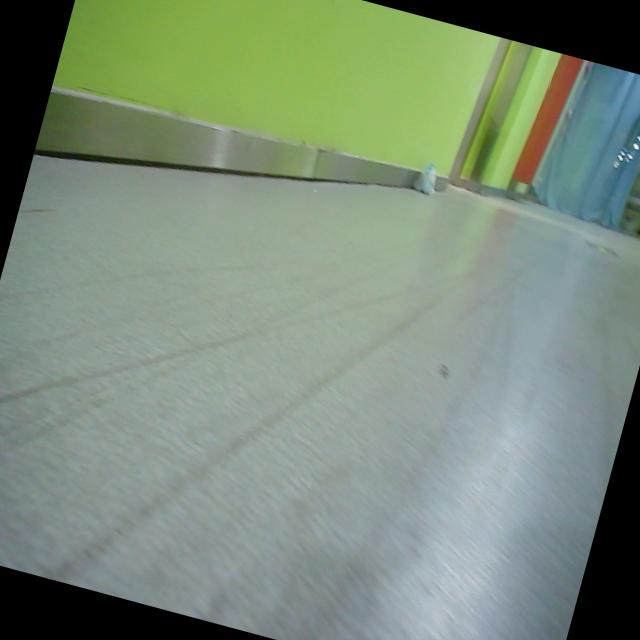xiaoba: (411, 156, 444, 200)
